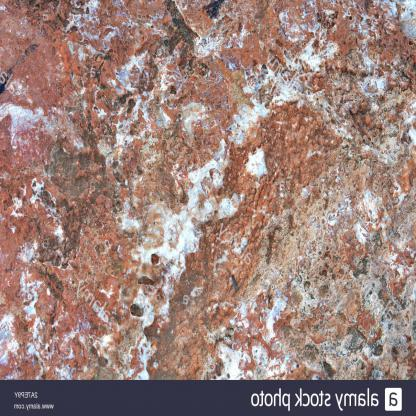Igneous_Granite: (0, 5, 411, 364)
